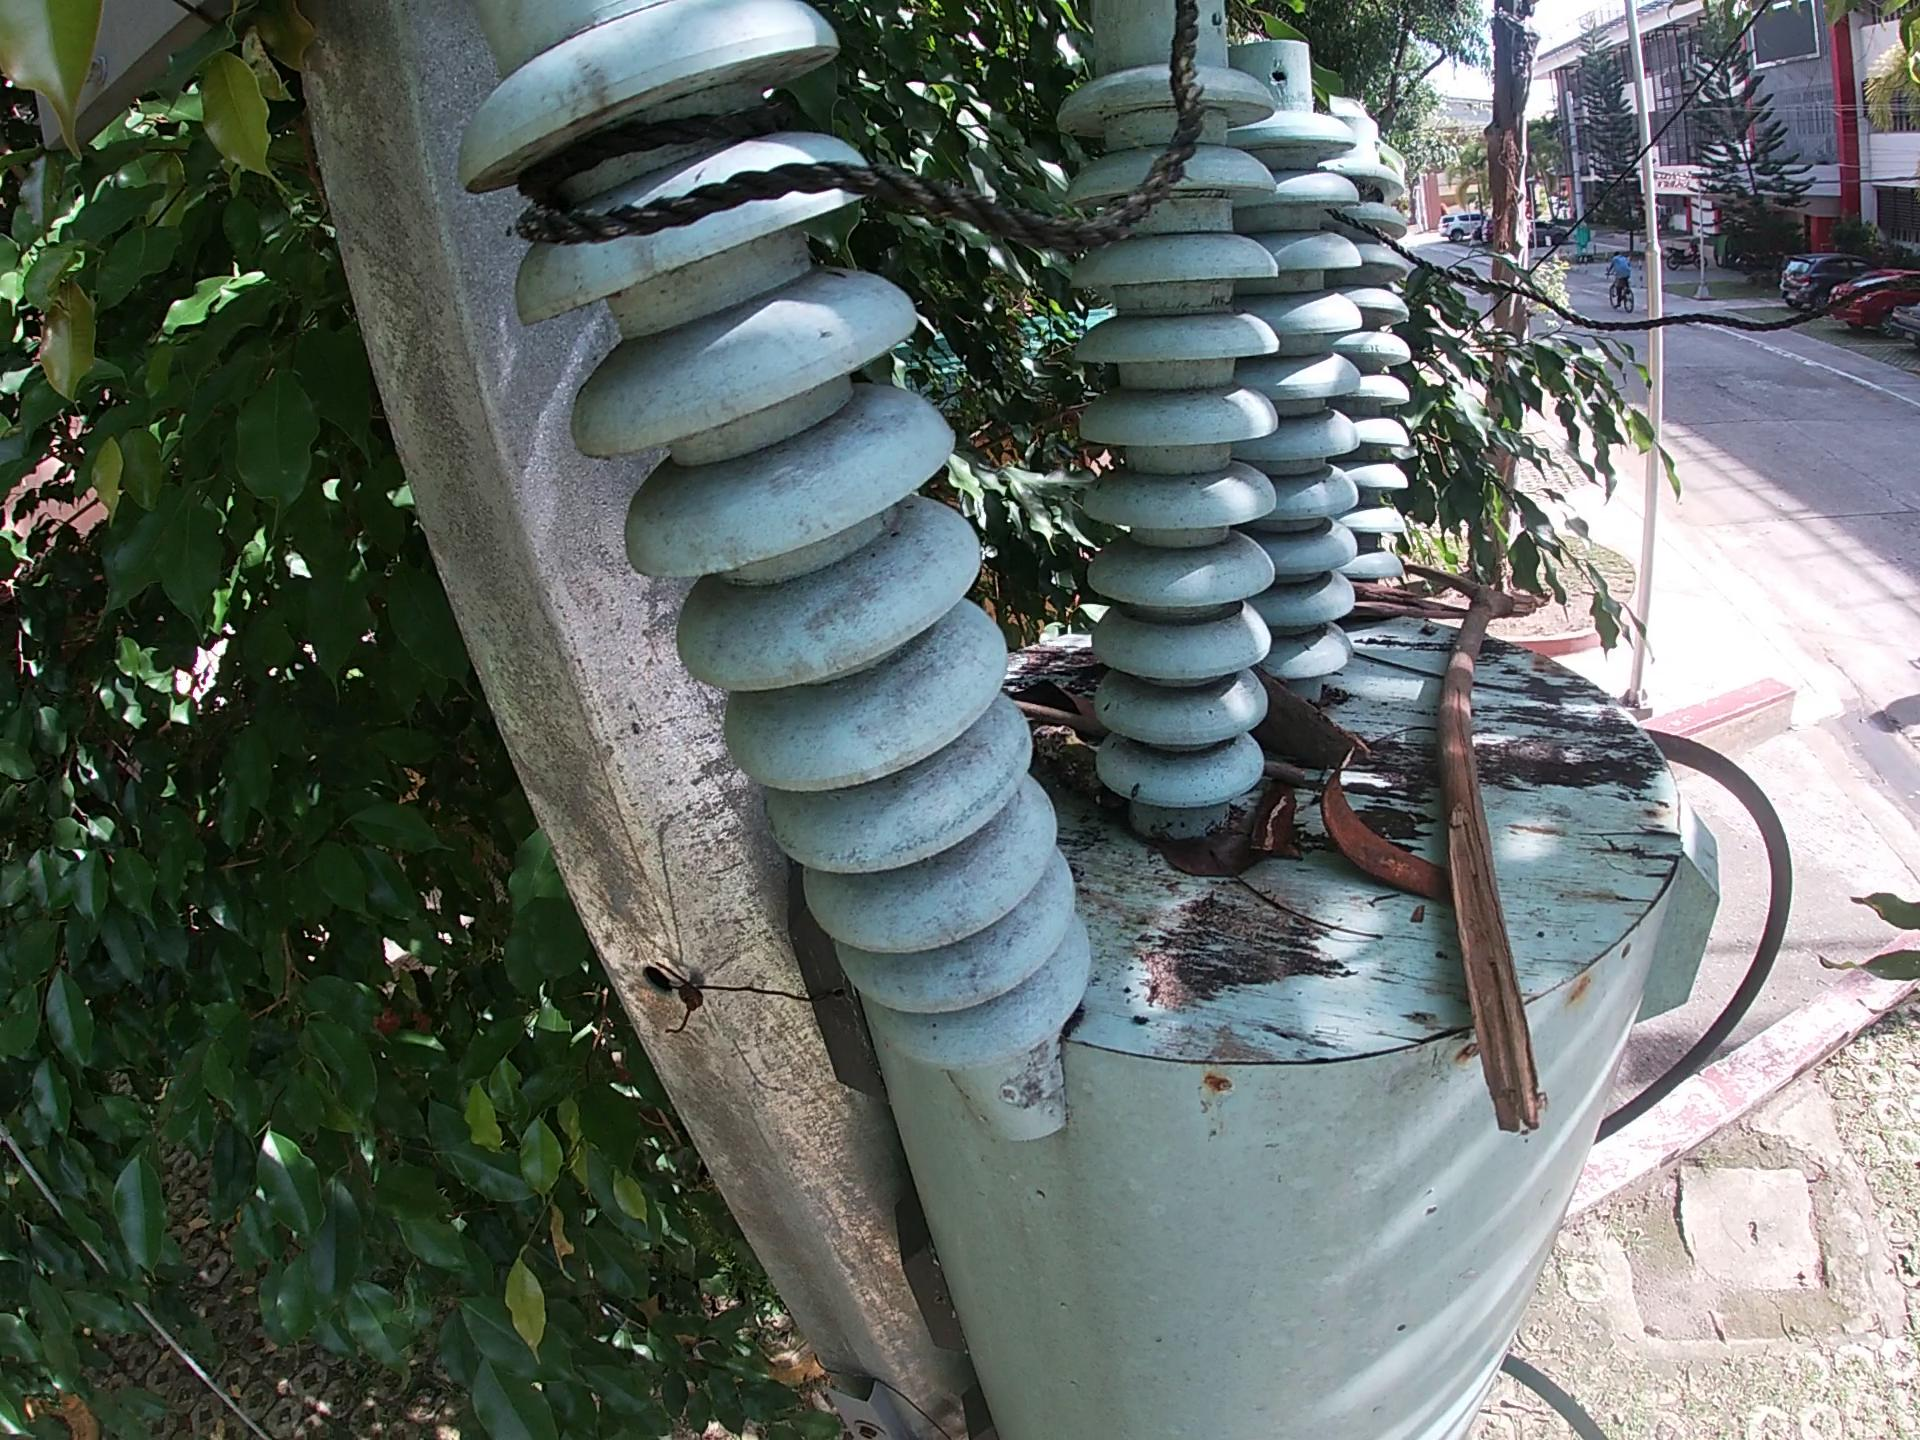leaf: (1138, 818, 1256, 883), (1013, 675, 1092, 711)
mahogany fruit: (1330, 746, 1460, 920), (1262, 681, 1380, 764)
tree branch: (1401, 564, 1587, 1162), (1349, 653, 1612, 714), (1234, 879, 1401, 950), (1027, 715, 1092, 799), (1355, 588, 1476, 629), (1259, 779, 1302, 886), (1010, 688, 1092, 735), (1250, 762, 1312, 790)
